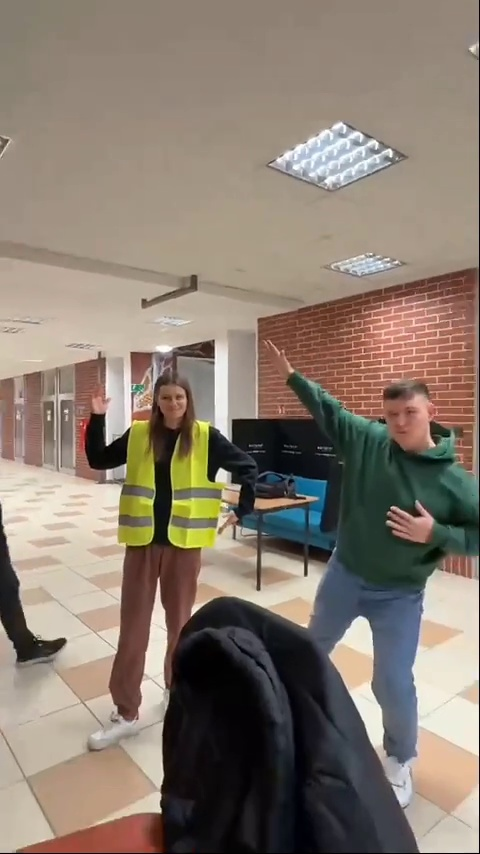no vest: (293, 364, 467, 754)
vest: (96, 373, 257, 770)
